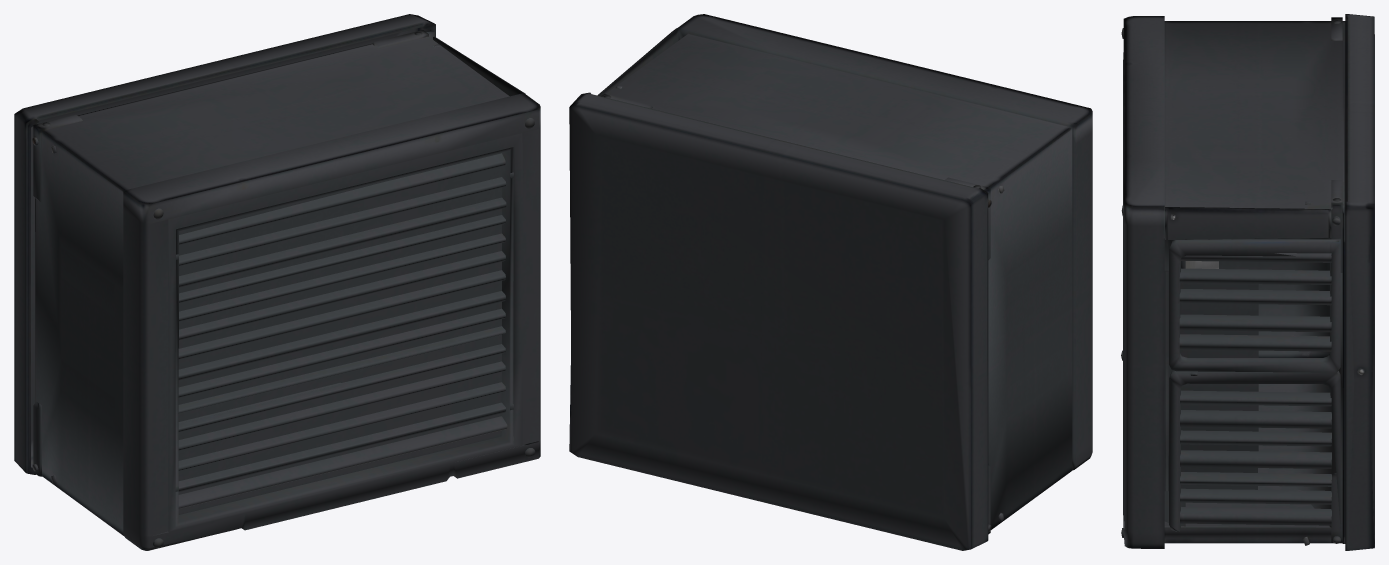
Rendered from Vent.glb.
The picture shows the model from 3 angles, left to right: view 1: azimuth 30°, elevation 25°; view 2: azimuth 150°, elevation 25°; view 3: azimuth 270°, elevation 25°; orthographic projection. The views are drawn at different scales.
Parts seen in each view (by area): view 1: tripo_node_05bca481-cf8b-4bfb-8eaa-66b66768cf5f; view 2: tripo_node_05bca481-cf8b-4bfb-8eaa-66b66768cf5f; view 3: tripo_node_05bca481-cf8b-4bfb-8eaa-66b66768cf5f.
Part boxes in pixels (x1=…): tripo_node_05bca481-cf8b-4bfb-8eaa-66b66768cf5f: x1=14, y1=14, x2=540, y2=550; tripo_node_05bca481-cf8b-4bfb-8eaa-66b66768cf5f: x1=569, y1=14, x2=1092, y2=550; tripo_node_05bca481-cf8b-4bfb-8eaa-66b66768cf5f: x1=1121, y1=14, x2=1374, y2=550.
Size of the model in its own units: 0.9995 by 0.8296 by 0.5474.
1 material, 1 textured.
